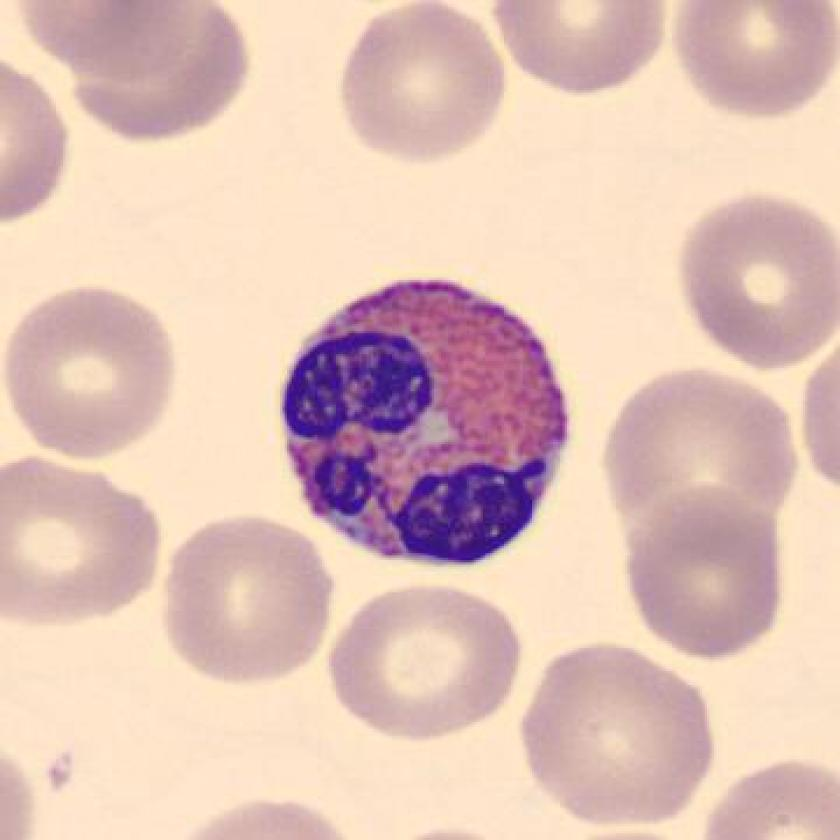eosinophil: (265, 265, 584, 579)
